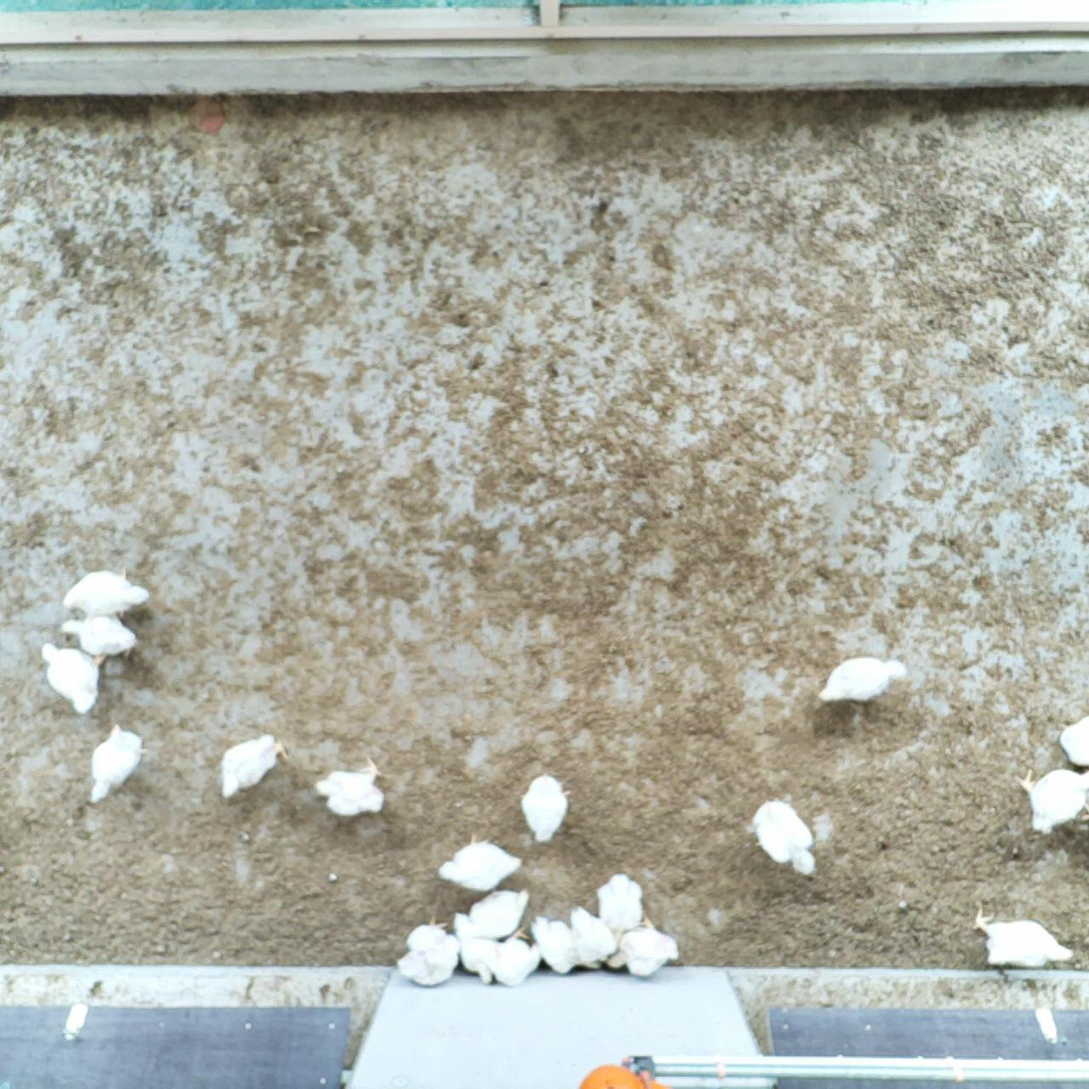chicken: (963, 901, 1077, 971), (745, 791, 819, 885), (804, 651, 910, 716), (83, 718, 153, 811), (1009, 759, 1089, 840), (434, 826, 526, 893), (311, 751, 391, 823), (35, 640, 108, 717), (393, 911, 463, 991), (218, 730, 292, 804), (58, 564, 152, 620), (463, 923, 542, 988), (605, 917, 682, 983), (515, 767, 574, 846), (58, 611, 141, 667), (449, 909, 502, 991), (591, 867, 645, 941), (528, 910, 583, 978), (568, 899, 619, 970), (467, 886, 532, 938), (1051, 707, 1089, 770)
